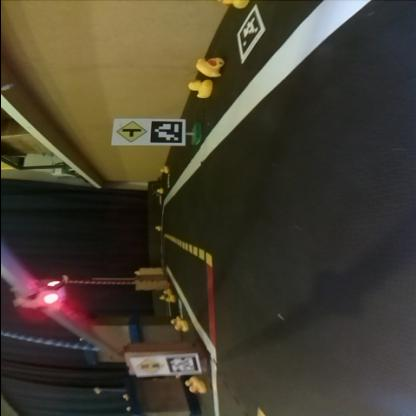Duckie: (194, 58, 221, 78), (188, 80, 212, 99), (218, 1, 246, 9), (188, 382, 204, 394), (172, 324, 186, 332), (169, 318, 179, 326), (158, 167, 166, 174), (161, 289, 170, 295), (164, 297, 172, 302), (155, 190, 161, 194)
Intersection sign: (112, 121, 146, 144)
QR code: (235, 5, 262, 65), (149, 121, 182, 144), (164, 356, 197, 376)
Signal sign: (133, 358, 163, 376)
Traffic light: (10, 280, 64, 310)
